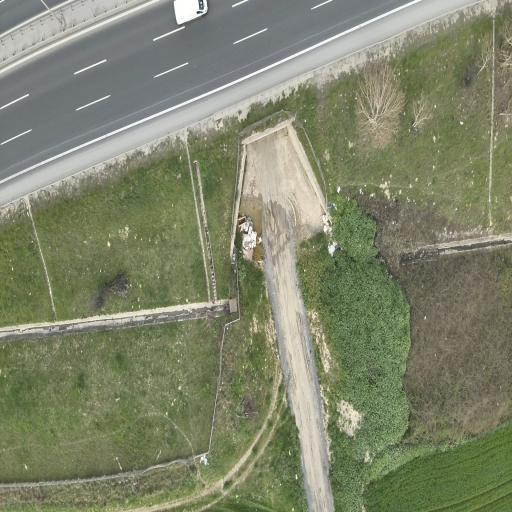truck: (174, 0, 207, 24)
